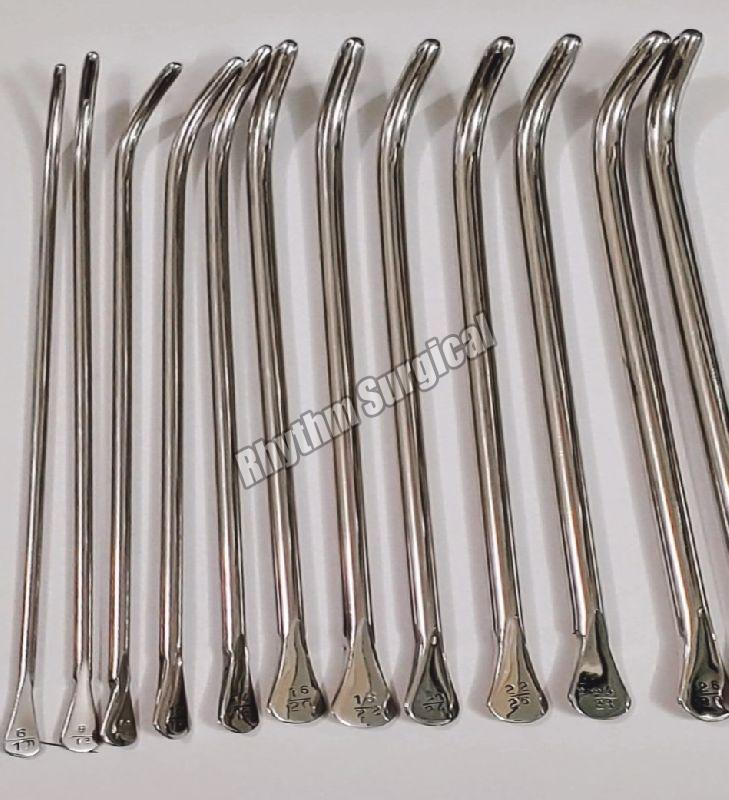Urethral Dilators: (585, 21, 712, 757), (504, 40, 624, 766), (370, 34, 475, 744), (142, 39, 242, 733), (98, 56, 196, 751), (300, 35, 392, 749), (462, 30, 542, 759), (53, 43, 122, 759), (258, 29, 322, 735), (0, 40, 56, 769)
